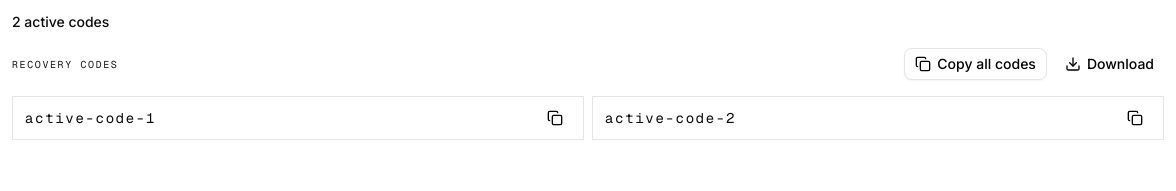
Test case: RecoveryCodes › copies one recovery code and reports clipboard failures
This screenshot has width=1176, height=191.
Click the button named "Copy code" in the row of "active-code-2" at x=1135, y=118, box [1119,102,1151,134]
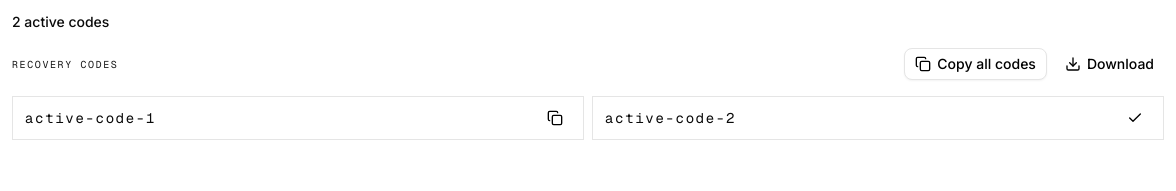
Click the button named "Copy code" in the row of "active-code-1" at x=555, y=118, box [539,102,571,134]
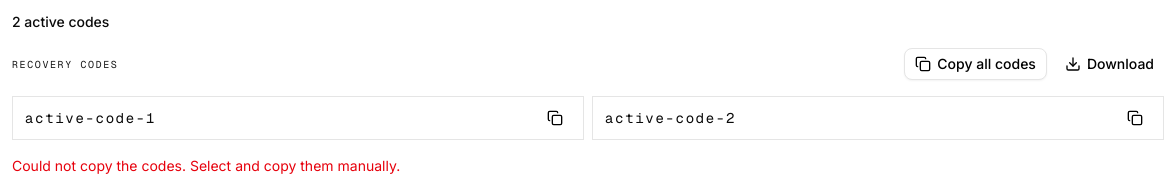
Expected: the message "Could not copy the codes. Select and copy them manually." is shown, [12,157,400,174]
